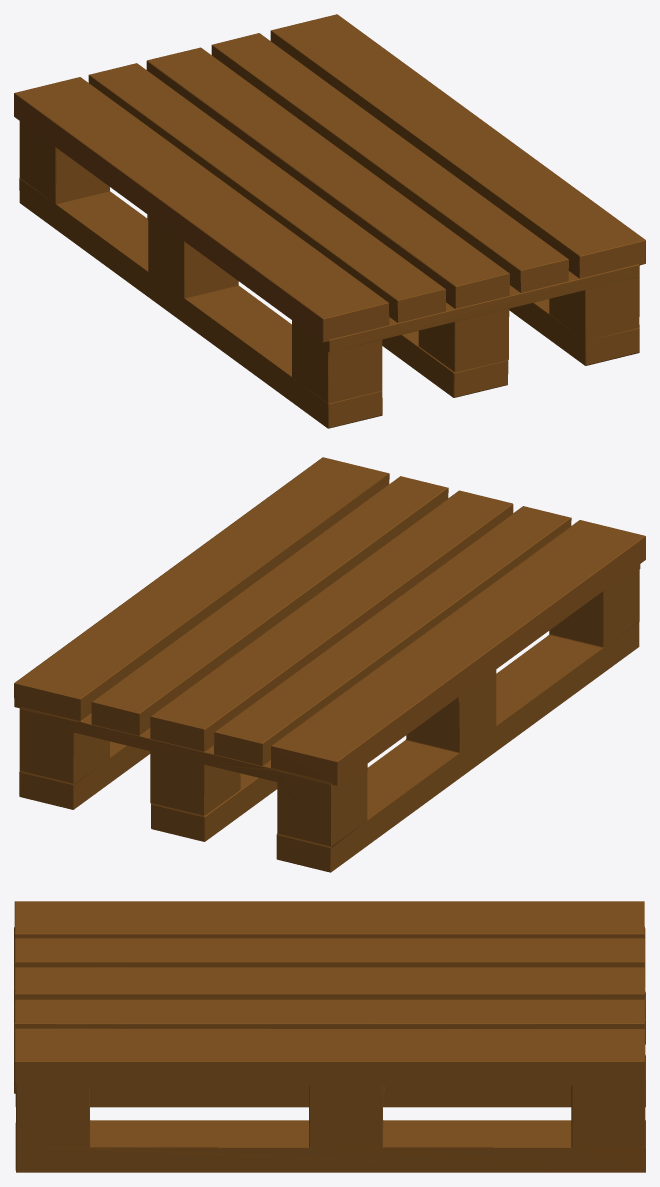
File: palette.glb
3 views of the same model, one above another, from view 1: azimuth 30°, elevation 25°; view 2: azimuth 150°, elevation 25°; view 3: azimuth 270°, elevation 25° (orthographic).
Visible parts, largest first — view 1: 280697_23_05_23_08_14_46_0; view 2: 280697_23_05_23_08_14_46_0; view 3: 280697_23_05_23_08_14_46_0.
Part boxes in pixels (x1=…): 280697_23_05_23_08_14_46_0: x1=14, y1=14, x2=645, y2=428; 280697_23_05_23_08_14_46_0: x1=14, y1=457, x2=645, y2=872; 280697_23_05_23_08_14_46_0: x1=14, y1=901, x2=645, y2=1172.
Size of the model in its own units: 10.7 by 3.54 by 17.77.
Materials: 1 (1 with a texture image).
